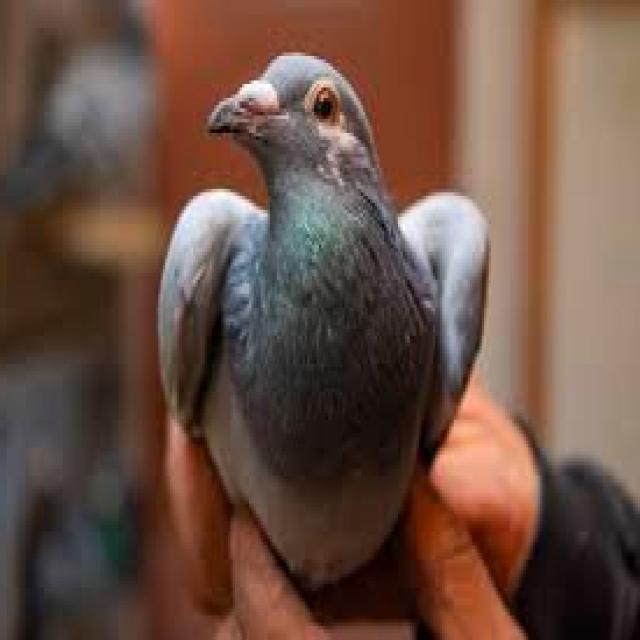pigeon: (161, 52, 489, 584)
